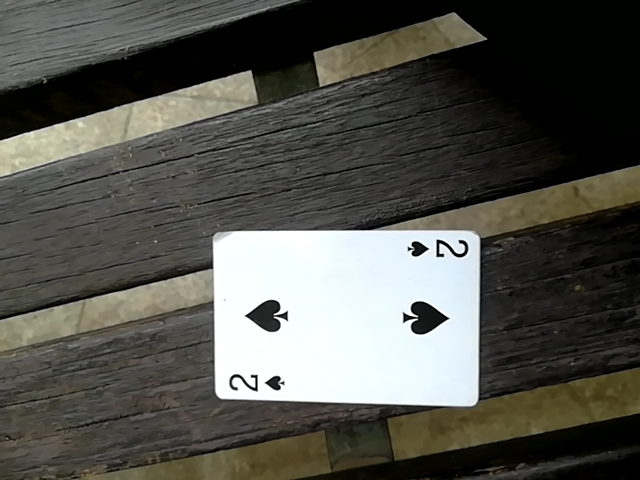ht 2: (206, 229, 480, 402)
